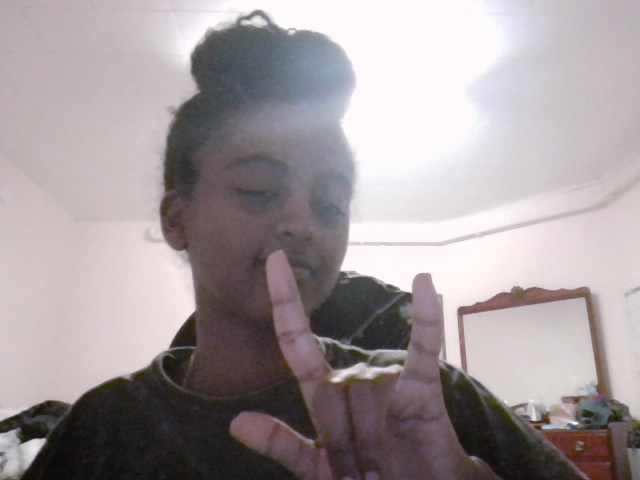ILoveYou: (230, 255, 498, 480)
